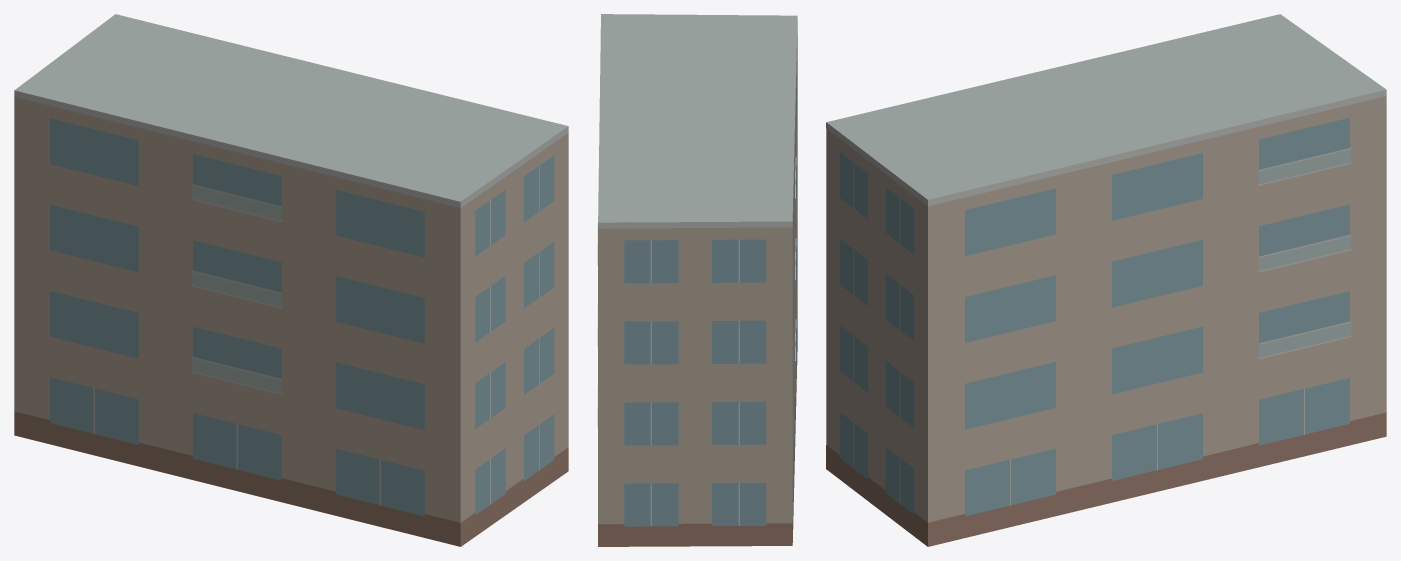
File: survey-upis-32722779.glb
3 views of the same model, side by side, from view 1: azimuth 30°, elevation 25°; view 2: azimuth 150°, elevation 25°; view 3: azimuth 270°, elevation 25° (orthographic). The views are drawn at different scales.
Parts seen in each view (by area): view 1: survey-upis-32722779.tmp; view 2: survey-upis-32722779.tmp; view 3: survey-upis-32722779.tmp.
Boxes of the visible parts, x1,y1,x2,y2 form: survey-upis-32722779.tmp: (14,14,568,546); survey-upis-32722779.tmp: (597,14,797,546); survey-upis-32722779.tmp: (826,14,1386,546).
Bounding box in the file's own units: 15.18 × 13.2 × 19.33.
